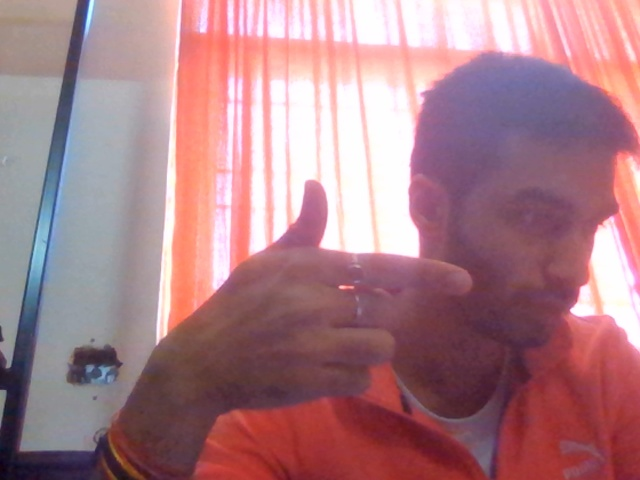G: (89, 176, 478, 480)
